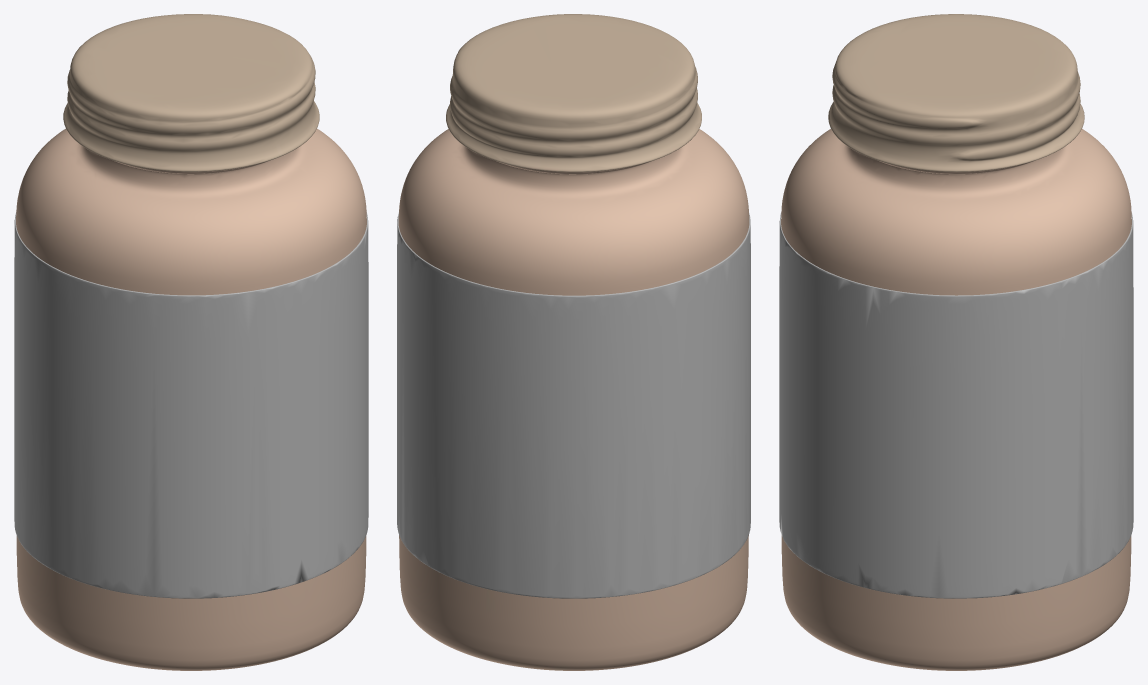
The model's file is glass-jar.min.glb.
3 views of the same model, side by side, from view 1: azimuth 30°, elevation 25°; view 2: azimuth 150°, elevation 25°; view 3: azimuth 270°, elevation 25° (orthographic).
Visible parts, largest first — view 1: bottle; view 2: bottle; view 3: bottle.
Boxes of the visible parts, left/top/right/bottom form: bottle: left=14, top=14, right=368, bottom=670; bottle: left=397, top=14, right=750, bottom=670; bottle: left=779, top=14, right=1133, bottom=670.
Size of the model in its own units: 0.0495 by 0.0835 by 0.0495.
1 material, 1 textured.
